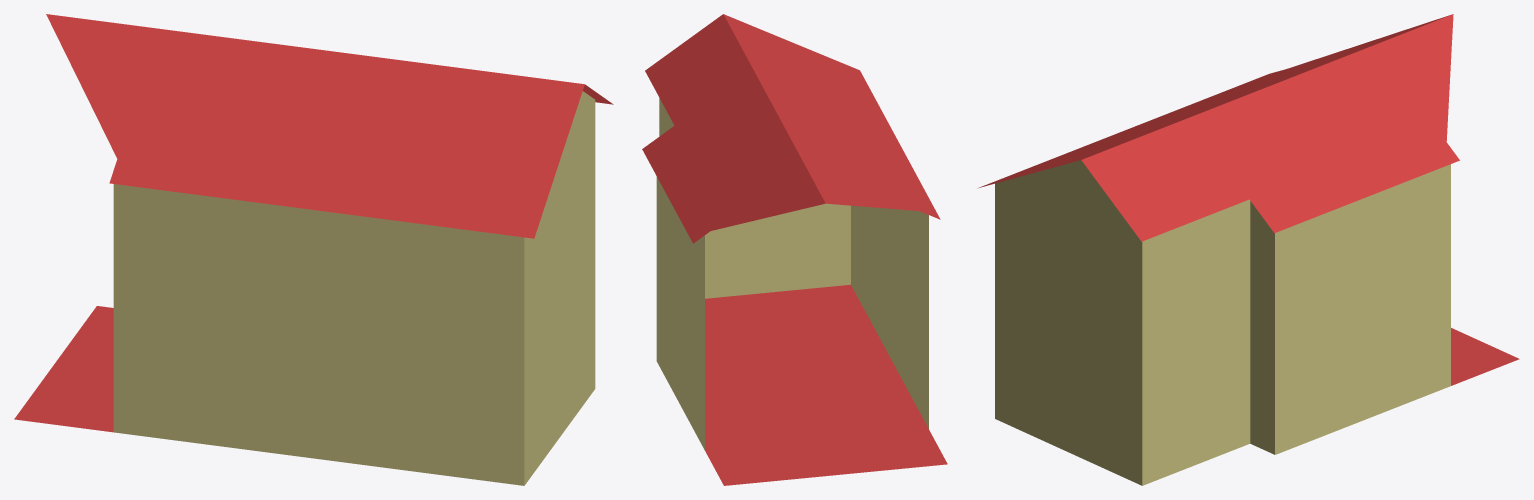
3 views of the same model, side by side, from view 1: azimuth 30°, elevation 25°; view 2: azimuth 150°, elevation 25°; view 3: azimuth 270°, elevation 25° (orthographic). The views are drawn at different scales.
Size of the model in its own units: 18.85 by 20.3 by 12.62.
